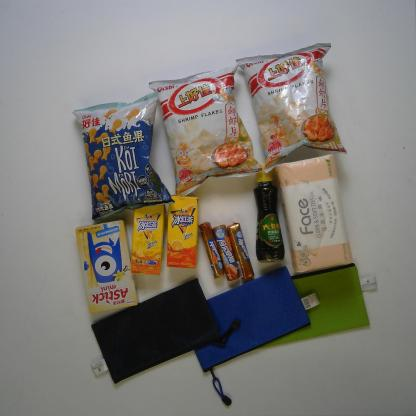Candy: (211, 222, 242, 284), (225, 220, 256, 282), (198, 219, 226, 280)
Dessert: (74, 217, 142, 316)
Drink: (164, 192, 202, 270), (130, 202, 168, 277)
Puffed Food: (142, 62, 265, 200), (231, 41, 351, 176), (69, 90, 177, 222)
Seasoner: (251, 160, 287, 266)
Stationery: (189, 260, 326, 410), (84, 274, 244, 389), (250, 260, 382, 354)
Tissue: (268, 150, 355, 275)
